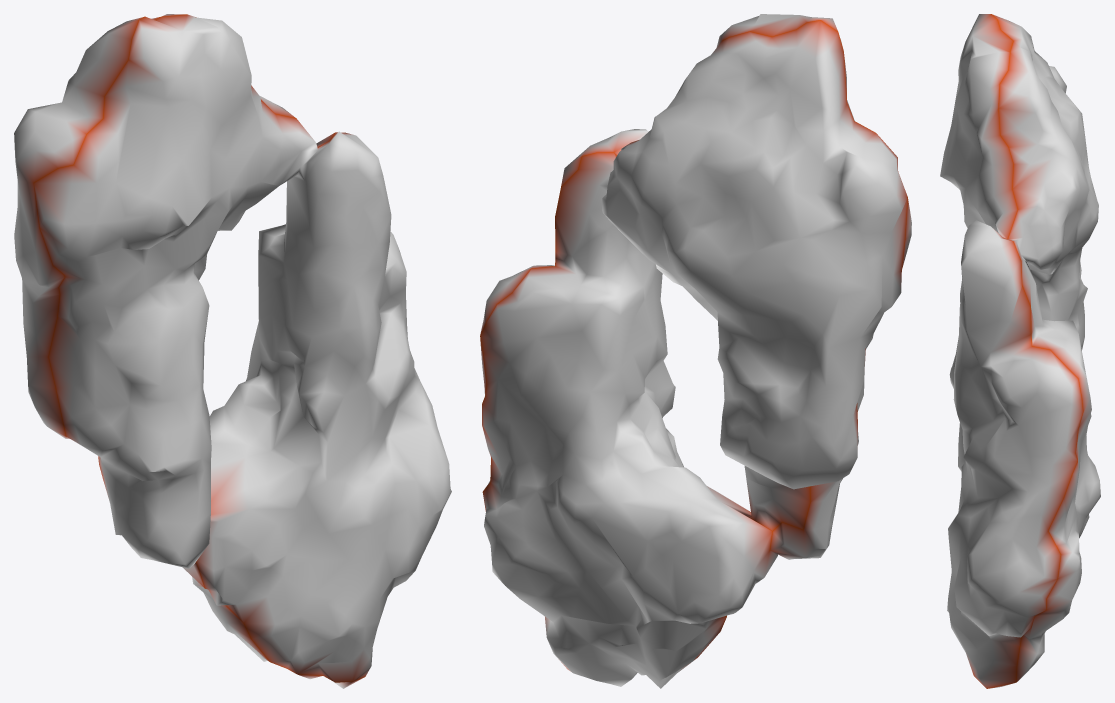
File: Portal.fbx
3 renders of one model, left to right at view 1: azimuth 30°, elevation 25°; view 2: azimuth 150°, elevation 25°; view 3: azimuth 270°, elevation 25°, orthographic. The views are drawn at different scales.
Visible parts, largest first — view 1: Group32876; view 2: Group32876; view 3: Group32876.
Part boxes in pixels (bbox=[...]): Group32876: bbox=[14, 14, 451, 688]; Group32876: bbox=[480, 14, 911, 688]; Group32876: bbox=[940, 14, 1100, 688].
Bounding box in the file's own units: 6.78 × 11.23 × 2.77.
